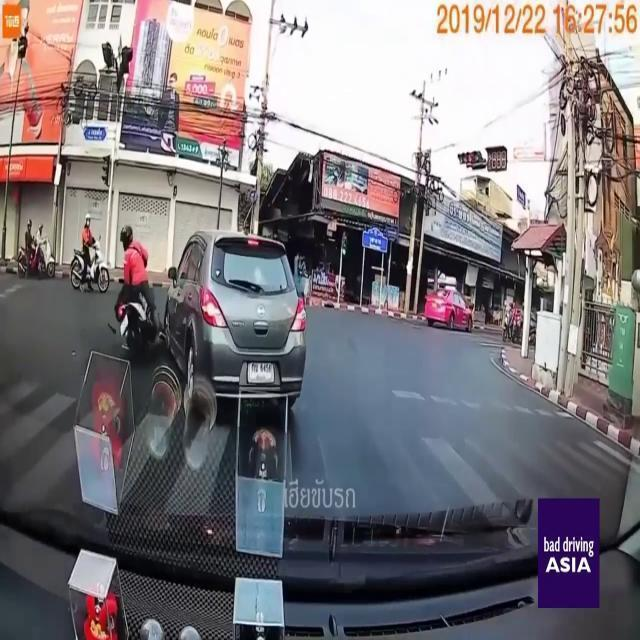accident: (117, 231, 305, 421)
